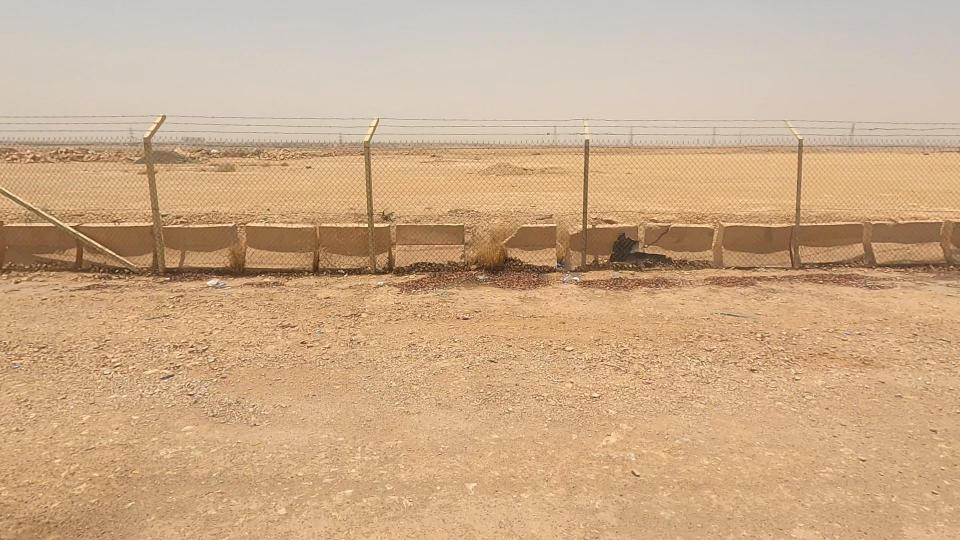GARBAGE: (174, 248, 264, 318), (576, 231, 675, 287), (522, 247, 609, 308)
